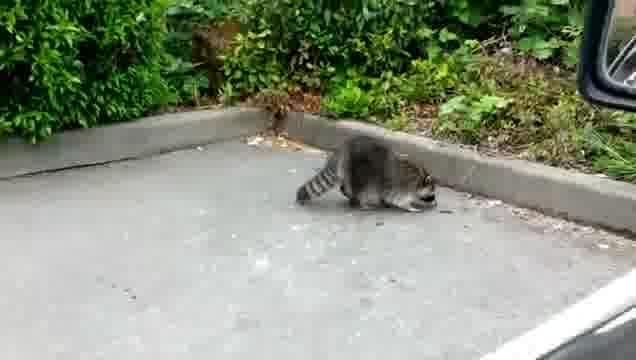raccoon: (294, 134, 439, 215)
